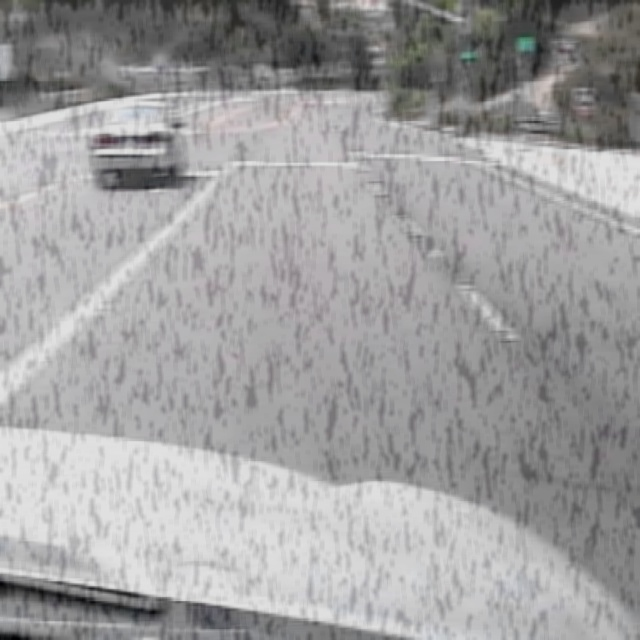noRightTurn: (552, 35, 577, 69)
